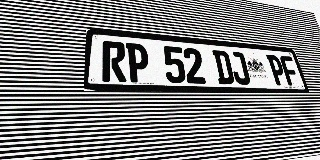2: (182, 47, 206, 84)
5: (163, 46, 187, 83)
D: (212, 50, 235, 84)
F: (279, 56, 301, 86)
J: (228, 51, 251, 85)
P: (126, 43, 150, 83), (266, 54, 288, 85)
R: (102, 41, 127, 82)
